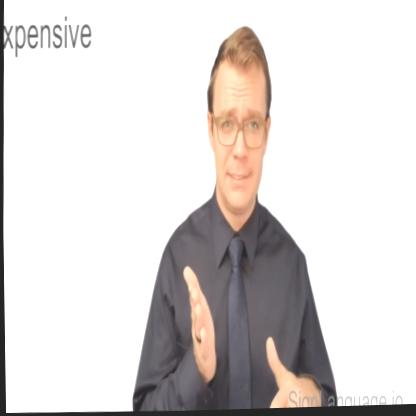Expensive: (175, 252, 322, 412)
